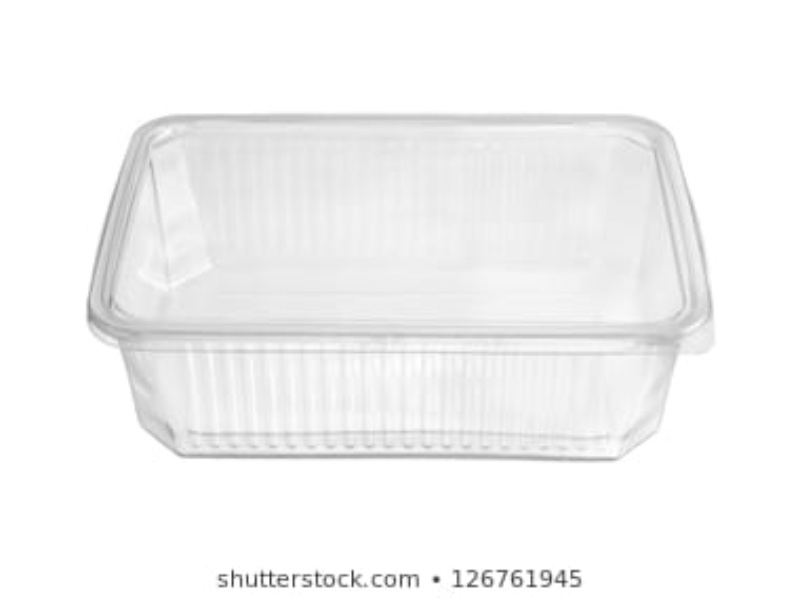plastic-container: (83, 110, 723, 461)
